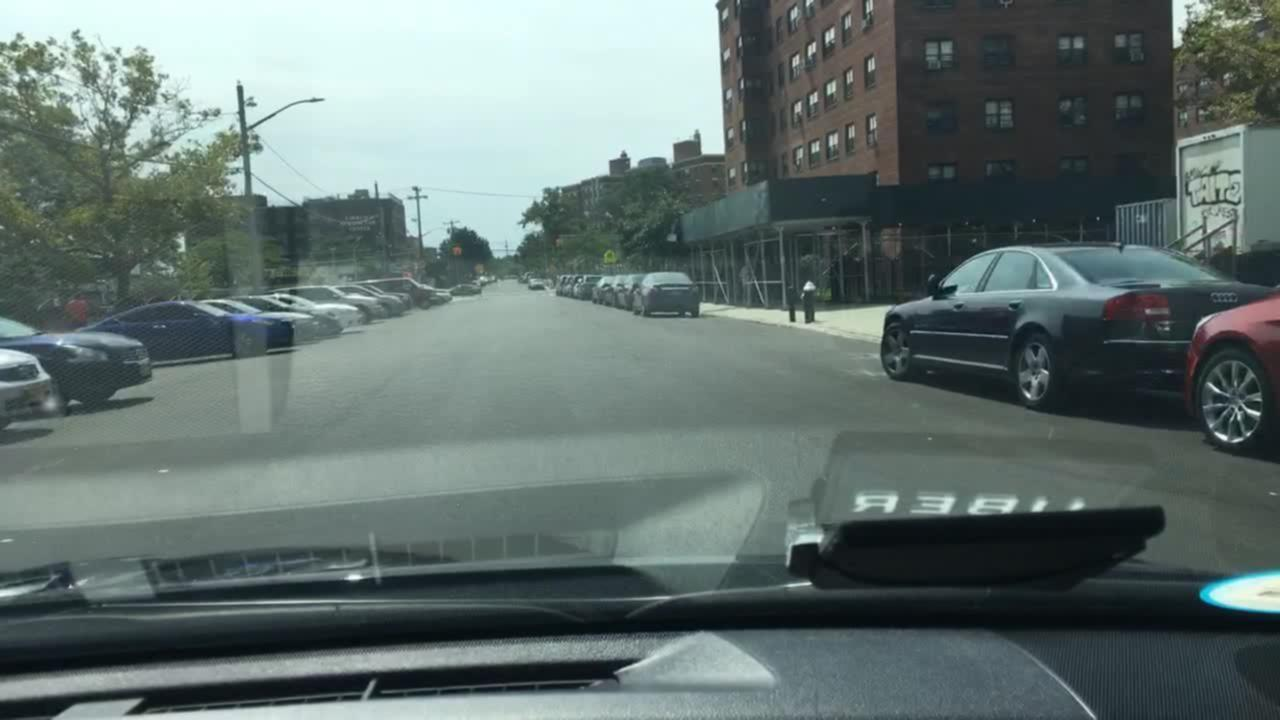Audi: (1202, 279, 1247, 309)
